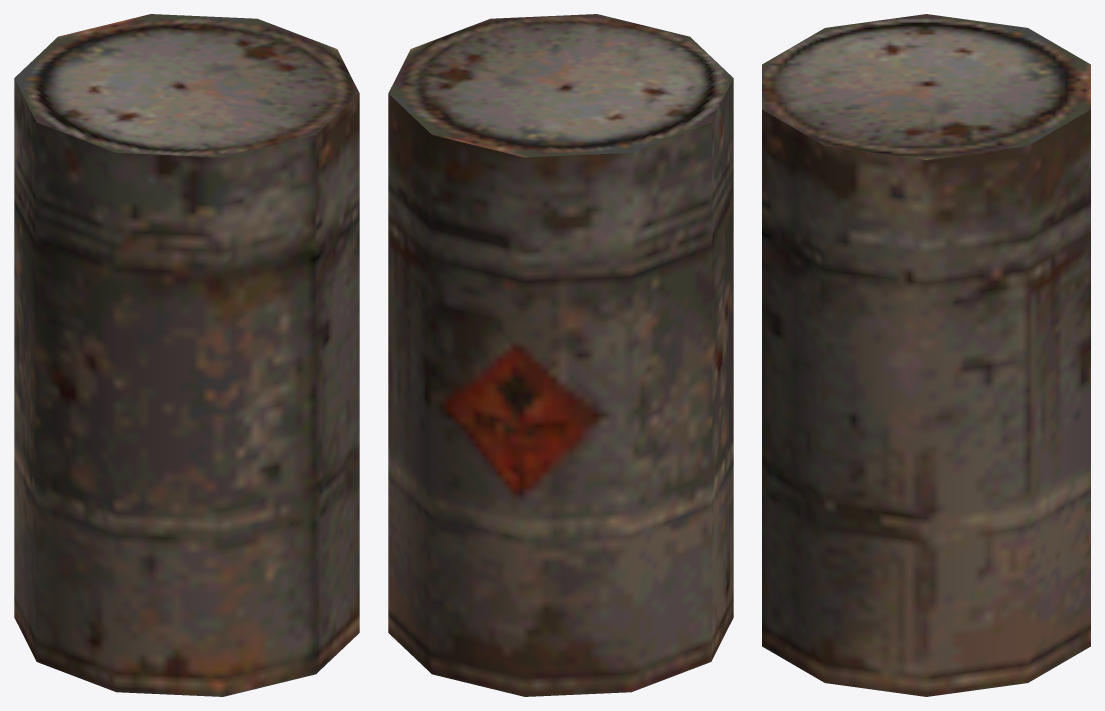
The model's file is Barrel1.fbx.
3 renders of one model, left to right at view 1: azimuth 30°, elevation 25°; view 2: azimuth 150°, elevation 25°; view 3: azimuth 270°, elevation 25°, orthographic.
Visible parts, largest first — view 1: Barrel_3; view 2: Barrel_3; view 3: Barrel_3.
Part boxes in pixels (left/top/right/bottom): Barrel_3: left=14, top=14, right=359, bottom=696; Barrel_3: left=388, top=14, right=733, bottom=696; Barrel_3: left=762, top=14, right=1090, bottom=696.
Bounding box in the file's own units: 0.5569 × 0.9547 × 0.5297.
